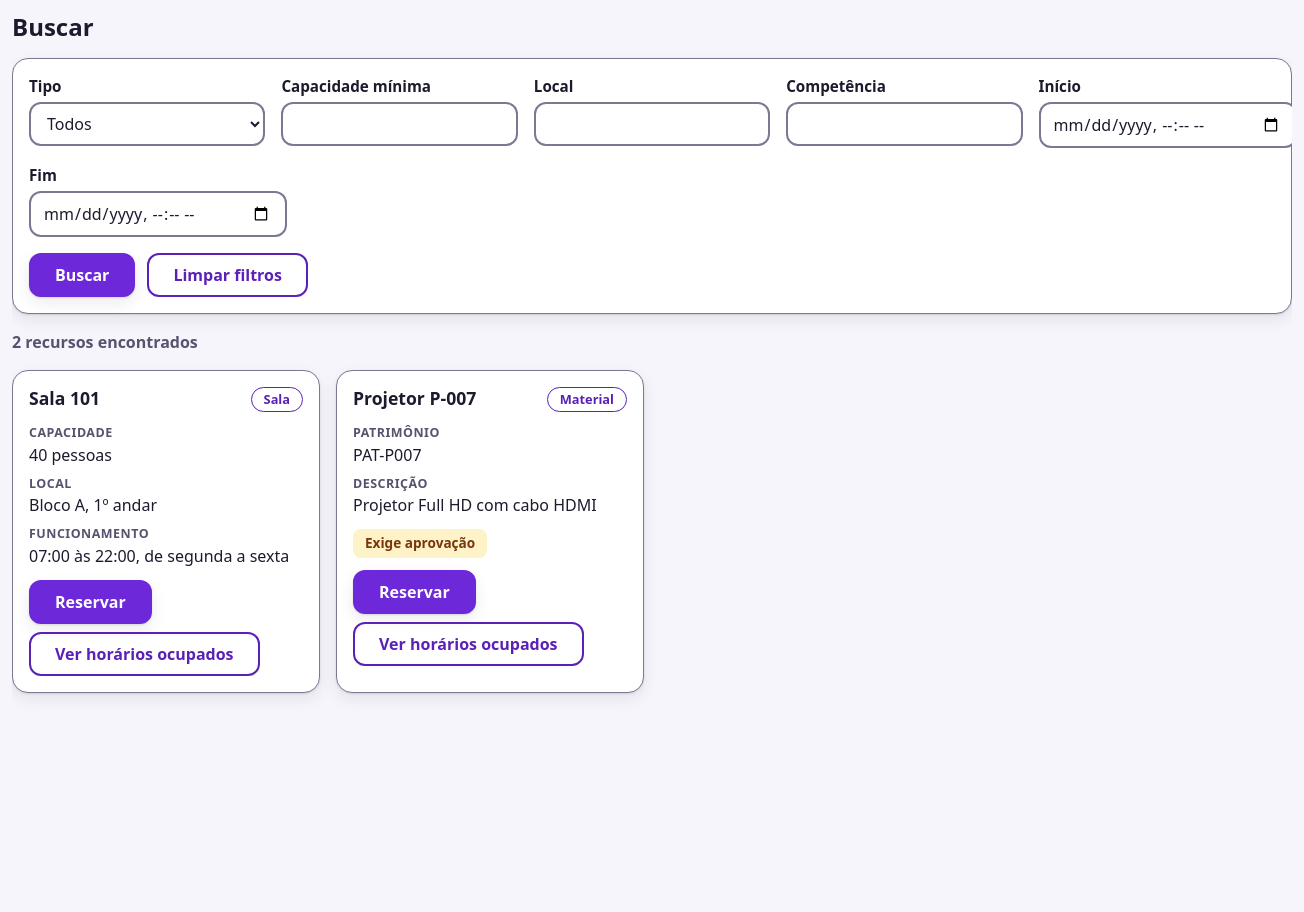
Test: PaginaDeBusca: ações de cada recurso › sem período na busca, consulta os próximos 14 dias a partir de agora
Check: the text "2 recursos encontrados" is shown, box [12,331,198,353]
Click the button "Ver horários ocupados" below "07:00" at (144, 654), box [29,632,260,676]
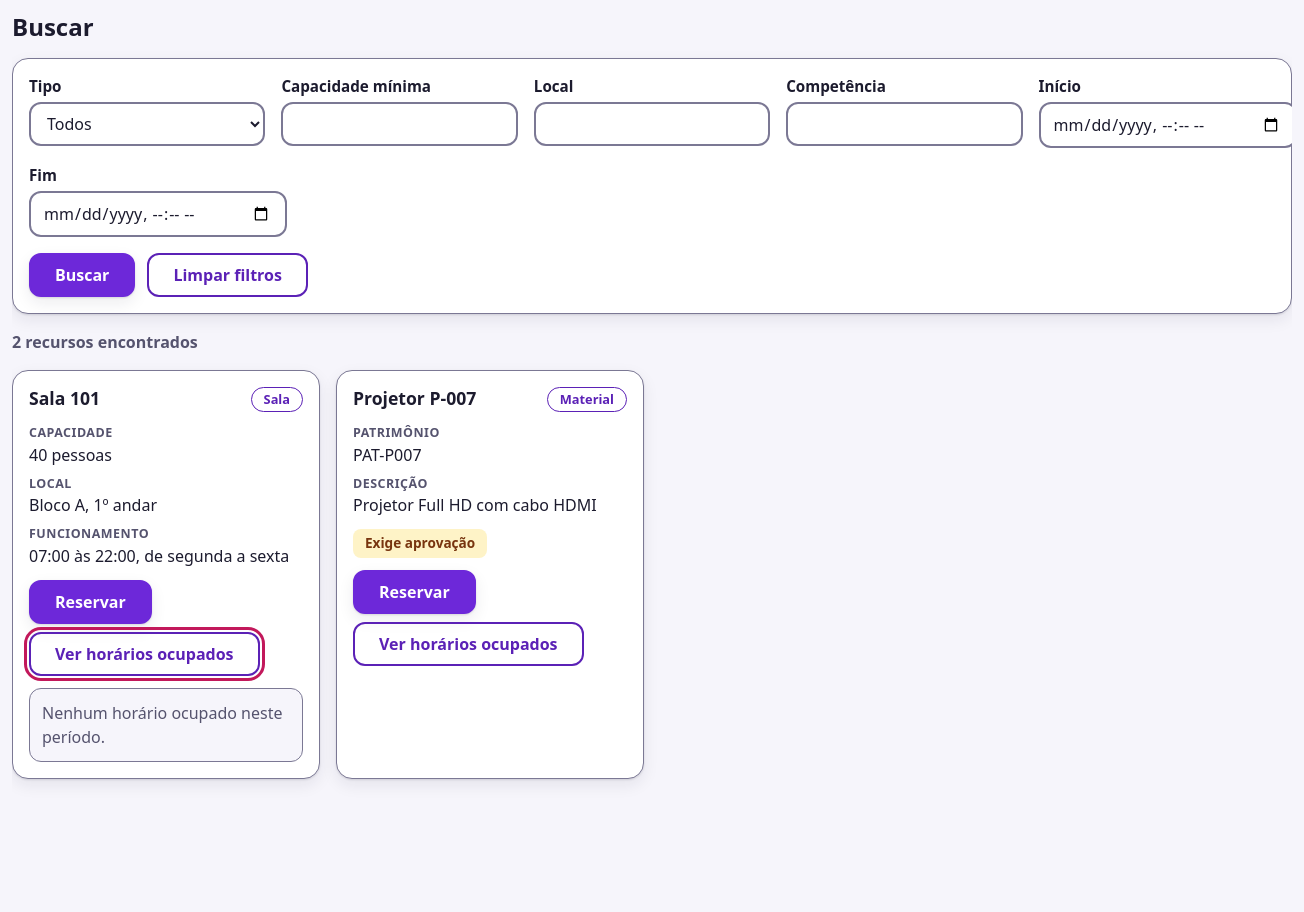
Check: the text "Nenhum horário ocupado neste período." is shown, box [42,701,290,749]
